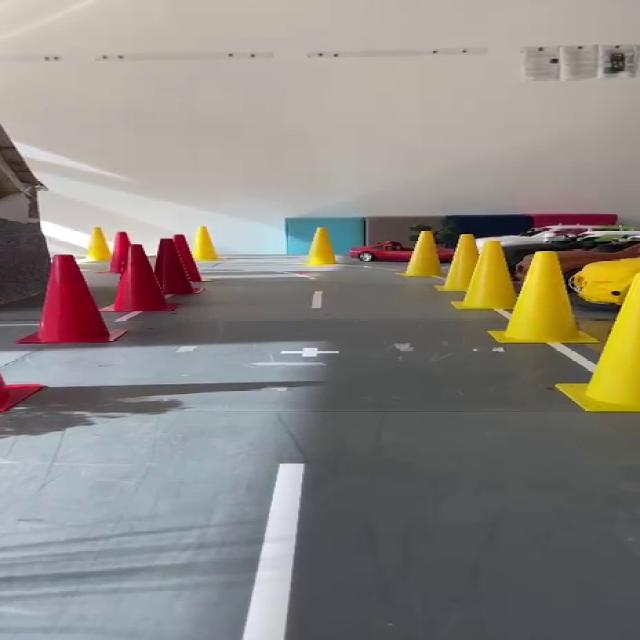Cone-red: (18, 255, 127, 343), (112, 244, 168, 312), (154, 238, 196, 295), (0, 372, 41, 412), (0, 373, 39, 412), (109, 232, 130, 274)
Cones-yellow: (436, 235, 599, 342), (556, 274, 639, 412), (404, 230, 439, 278), (306, 228, 335, 265), (88, 228, 113, 261), (194, 226, 217, 261)
